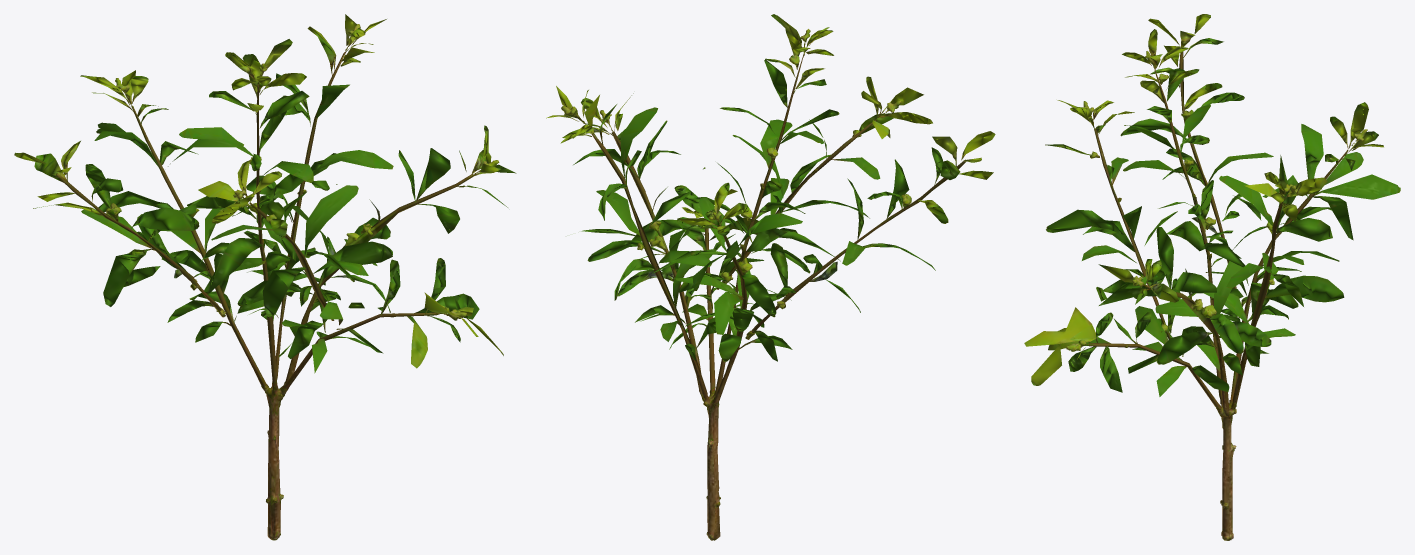
The model's file is XingChenMu.glb.
3 views of the same model, side by side, from view 1: azimuth 30°, elevation 25°; view 2: azimuth 150°, elevation 25°; view 3: azimuth 270°, elevation 25° (orthographic). The views are drawn at different scales.
Parts seen in each view (by area): view 1: tripo_node_9284385e-6f5a-428e-84de-c82b6aebd679; view 2: tripo_node_9284385e-6f5a-428e-84de-c82b6aebd679; view 3: tripo_node_9284385e-6f5a-428e-84de-c82b6aebd679.
Part boxes in pixels (x1,y1,x2,y2): tripo_node_9284385e-6f5a-428e-84de-c82b6aebd679: (14, 14, 516, 540); tripo_node_9284385e-6f5a-428e-84de-c82b6aebd679: (546, 14, 995, 540); tripo_node_9284385e-6f5a-428e-84de-c82b6aebd679: (1024, 14, 1400, 540).
Bounding box in the file's own units: 0.9043 × 0.998 × 0.7168.
Materials: 1 (1 with a texture image).
